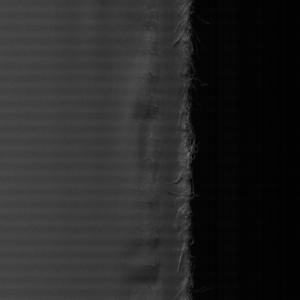Damage: (135, 1, 212, 300)
